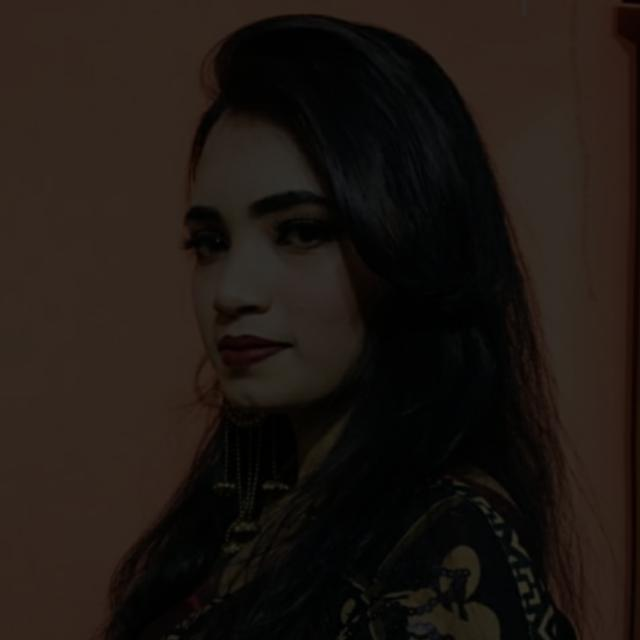Natural: (146, 103, 438, 475)
